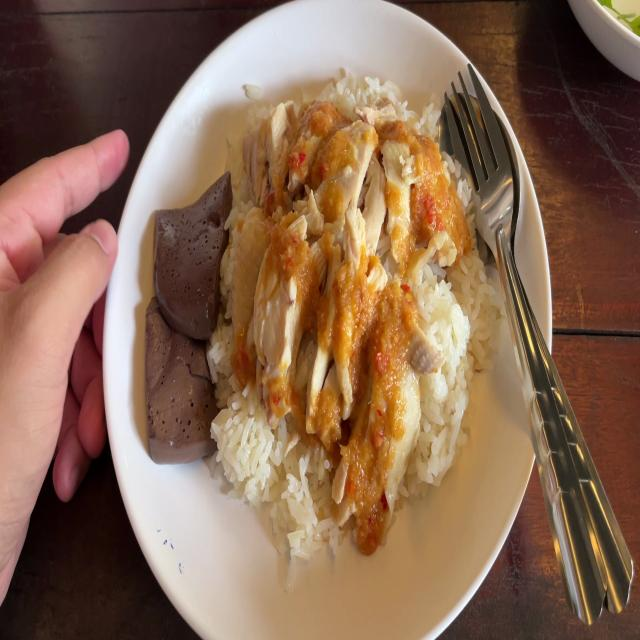chicken_rice: (248, 107, 433, 457)
noodle: (145, 154, 236, 333), (133, 293, 223, 458)
